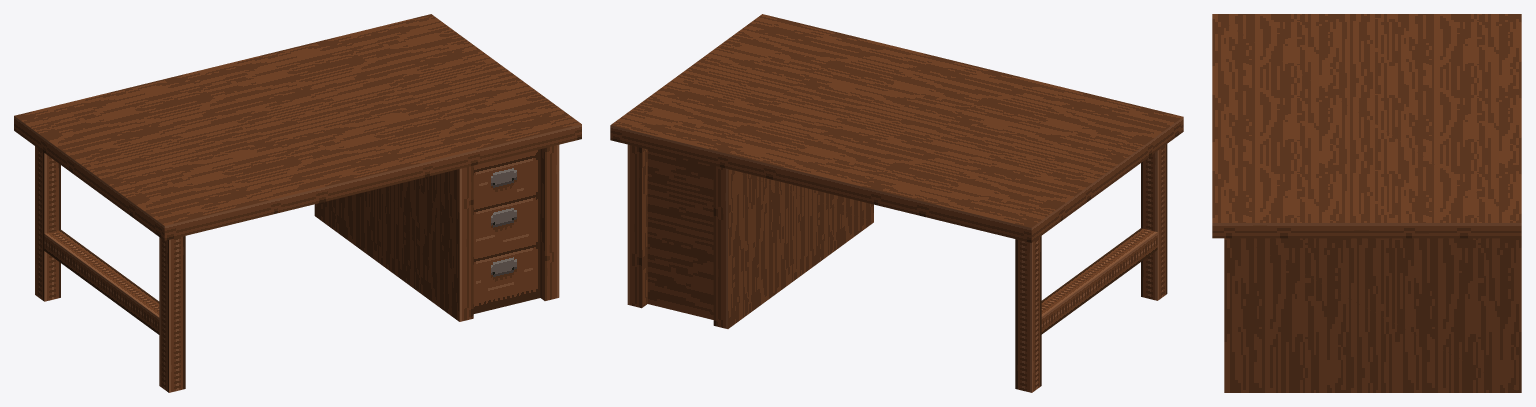
The model's file is Sketchfab_2018_12_17_21_46_32.fbx.
The picture shows the model from 3 angles, left to right: view 1: azimuth 30°, elevation 25°; view 2: azimuth 150°, elevation 25°; view 3: azimuth 270°, elevation 25°; orthographic projection. The views are drawn at different scales.
Visible parts, largest first — view 1: NGon001; view 2: NGon001; view 3: NGon001.
Boxes of the visible parts, x1,y1,x2,y2 form: NGon001: (14, 14, 581, 392); NGon001: (610, 14, 1183, 392); NGon001: (1212, 14, 1521, 392).
Size of the model in its own units: 176 by 70 by 110.
